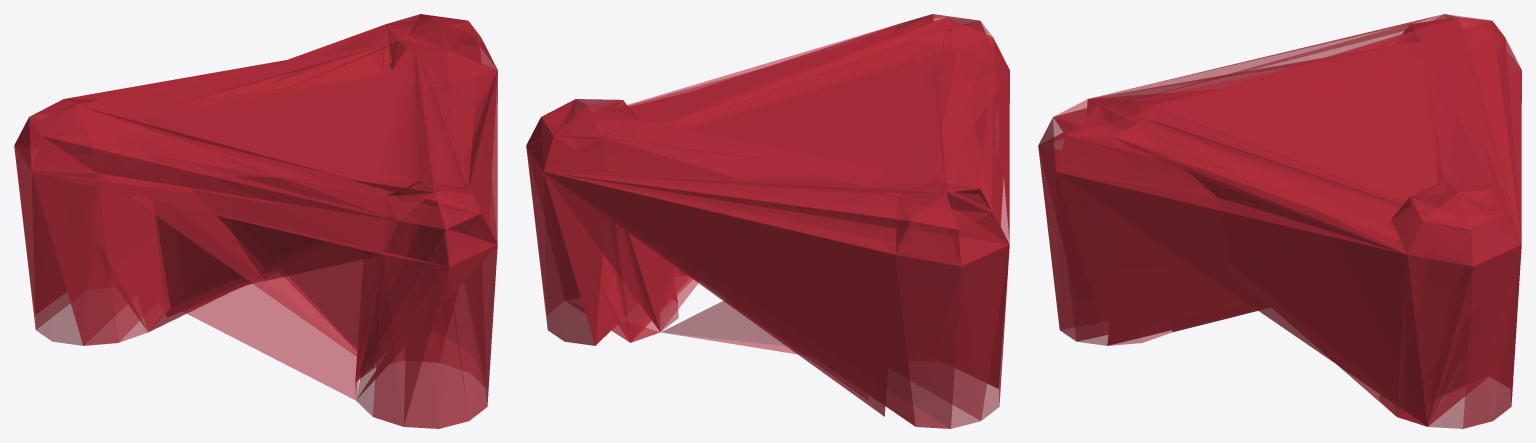
The model's file is S.S._Dolphin_Guard_Satellite_4.obj.
The picture shows the model from 3 angles, left to right: view 1: azimuth 30°, elevation 25°; view 2: azimuth 150°, elevation 25°; view 3: azimuth 270°, elevation 25°; orthographic projection.
Visible parts, largest first — view 1: S.S._Dolphin_Guard_Satellite_4; view 2: S.S._Dolphin_Guard_Satellite_4; view 3: S.S._Dolphin_Guard_Satellite_4.
Boxes of the visible parts, x1,y1,x2,y2 form: S.S._Dolphin_Guard_Satellite_4: (14, 14, 497, 428); S.S._Dolphin_Guard_Satellite_4: (526, 14, 1009, 428); S.S._Dolphin_Guard_Satellite_4: (1038, 14, 1521, 428).
Bounding box in the file's own units: 1.16 × 0.5201 × 1.05.
